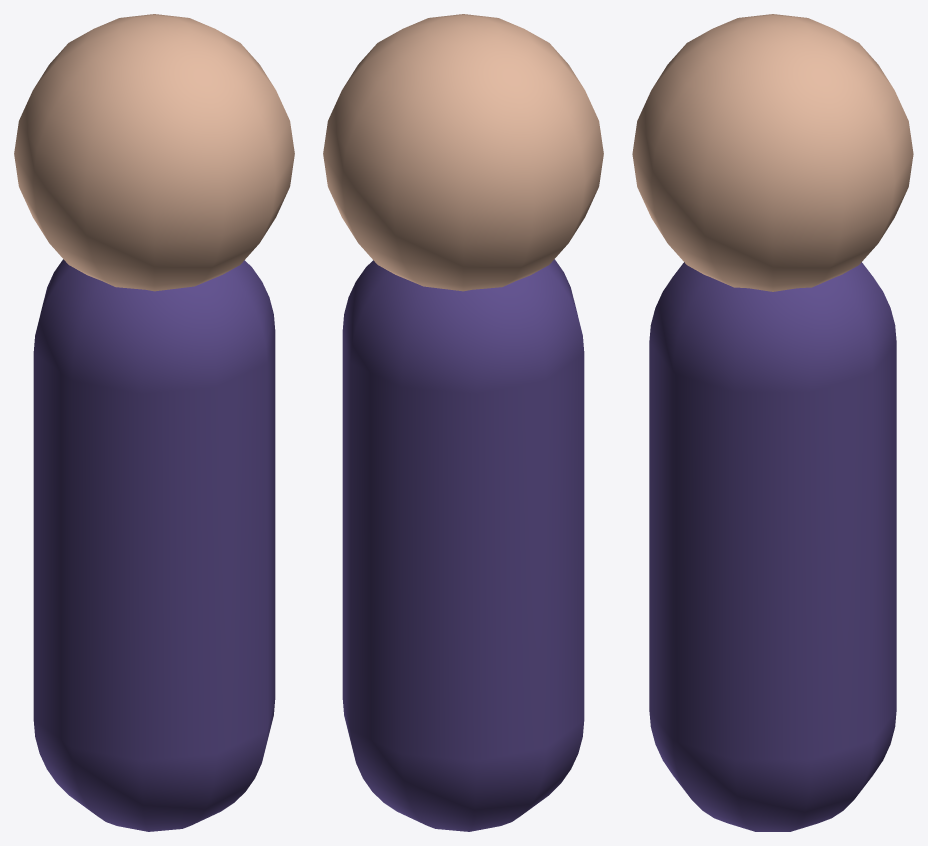
File: person.glb
3 views of the same model, side by side, from view 1: azimuth 30°, elevation 25°; view 2: azimuth 150°, elevation 25°; view 3: azimuth 270°, elevation 25° (orthographic).
Size of the model in its own units: 0.5 by 1.56 by 0.5.
